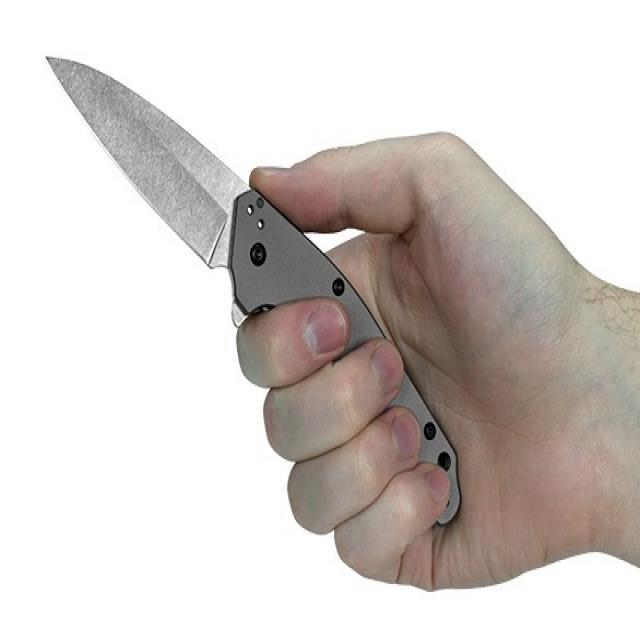faca: (40, 49, 469, 536)
